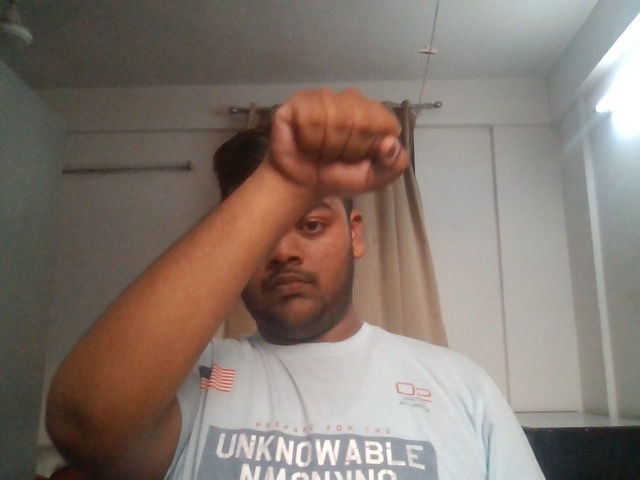Yes: (223, 58, 434, 263)
